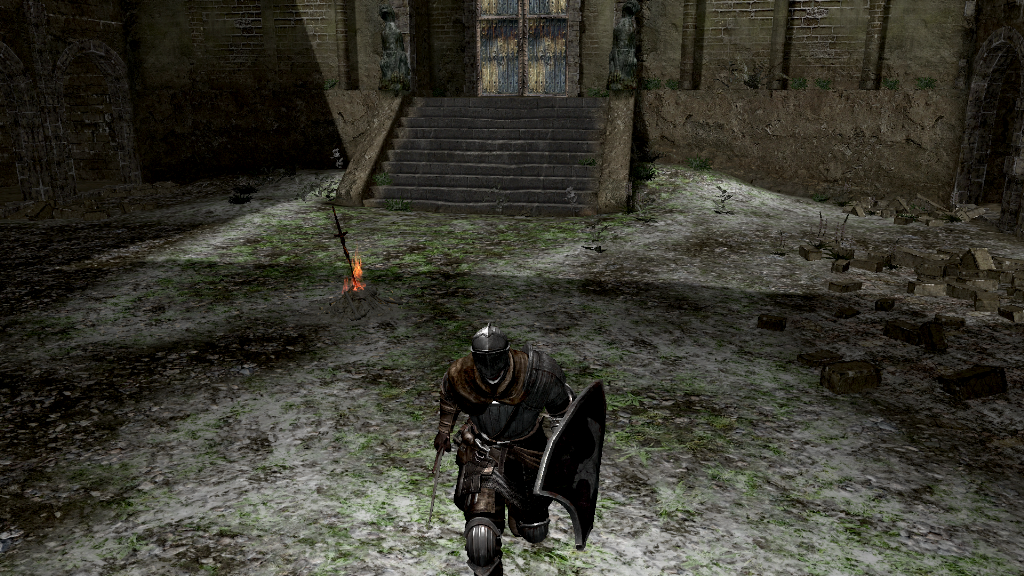bonfire: (326, 202, 379, 302)
player: (425, 324, 609, 576)
